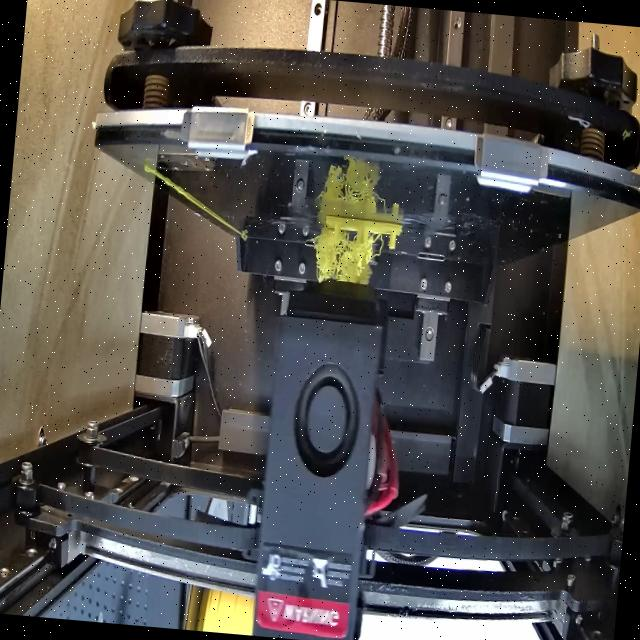spaghetti: (309, 228, 380, 291)
